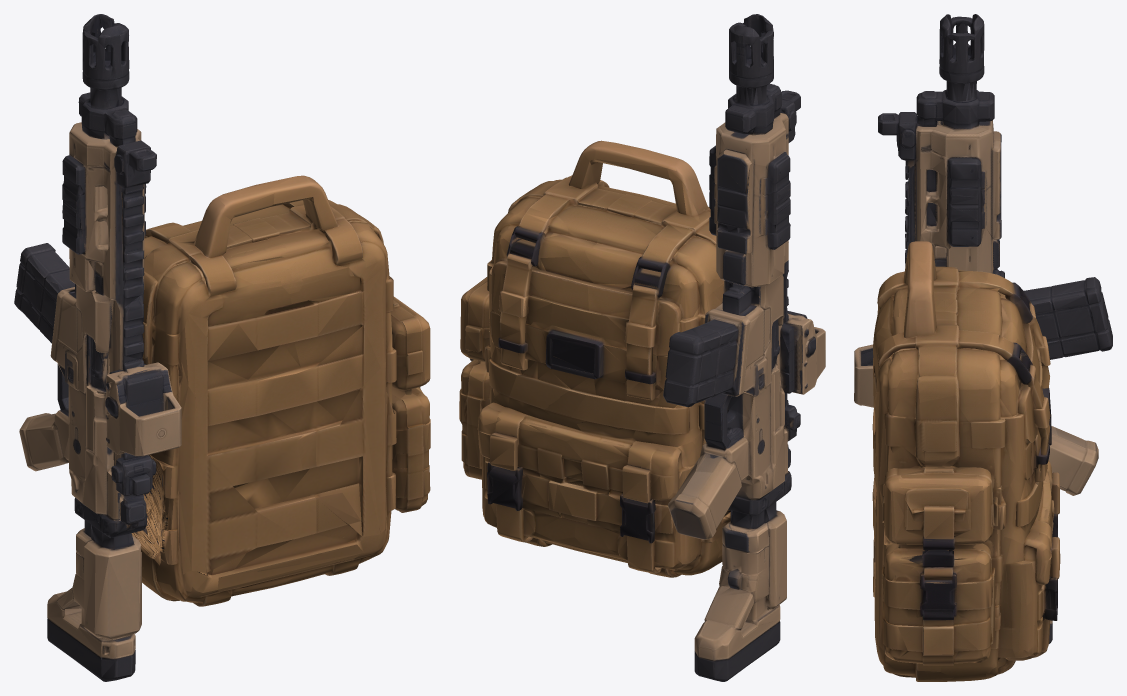
The model's file is Bag.glb.
The picture shows the model from 3 angles, left to right: view 1: azimuth 30°, elevation 25°; view 2: azimuth 150°, elevation 25°; view 3: azimuth 270°, elevation 25°; orthographic projection. The views are drawn at different scales.
Parts seen in each view (by area): view 1: Bag_low; view 2: Bag_low; view 3: Bag_low.
Part boxes in pixels (<box>): Bag_low: <box>14,14,430,681</box>; Bag_low: <box>459,14,825,681</box>; Bag_low: <box>854,14,1112,681</box>.
Bounding box in the file's own units: 0.4373 × 0.8116 × 0.303.
2 materials, 2 textured.
